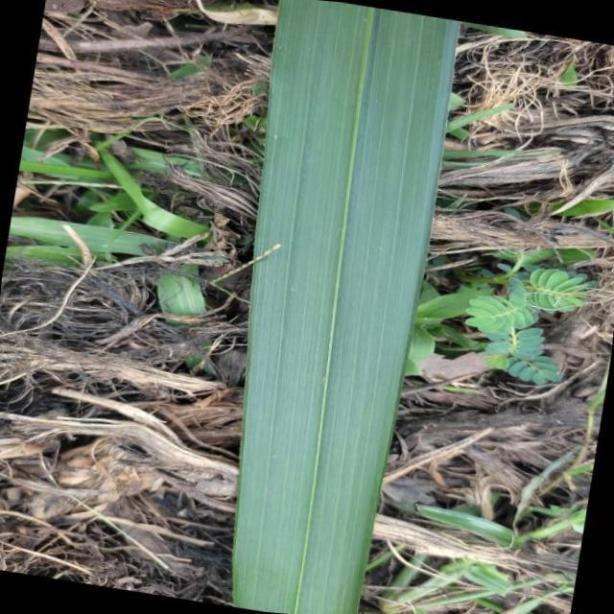Healthy: (234, 0, 464, 614)
